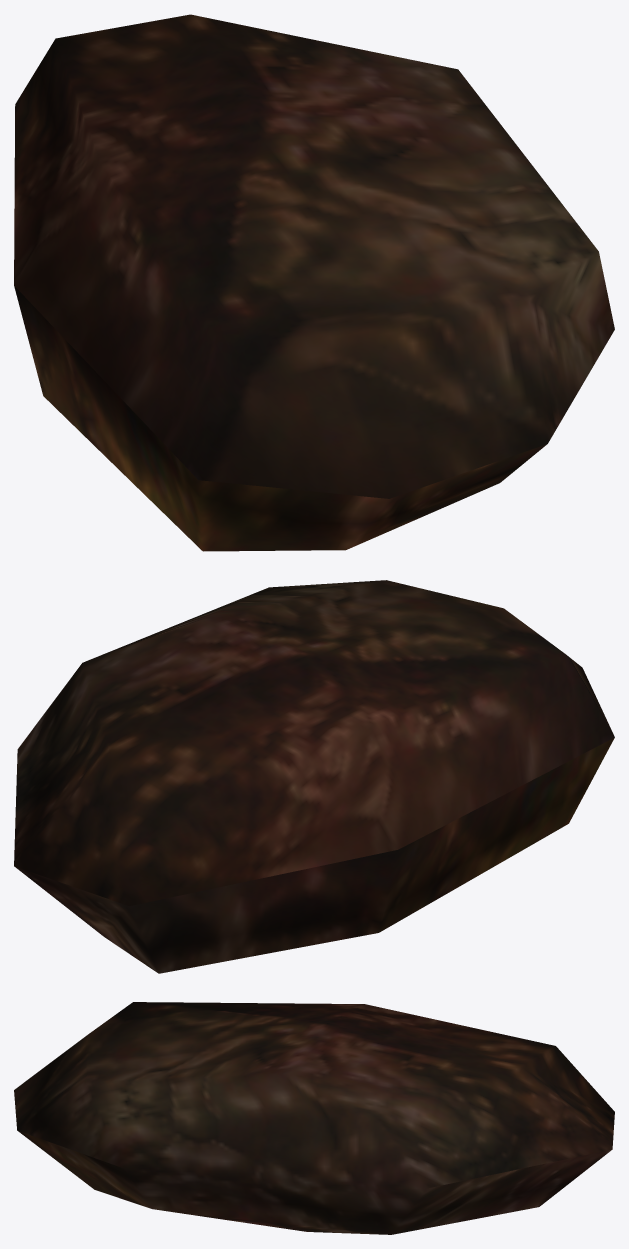
File: Giblet_Organ_02.DAE
The picture shows the model from 3 angles, top to bottom: view 1: azimuth 30°, elevation 25°; view 2: azimuth 150°, elevation 25°; view 3: azimuth 270°, elevation 25°; orthographic projection. The views are drawn at different scales.
Parts seen in each view (by area): view 1: Giblet_Organ02; view 2: Giblet_Organ02; view 3: Giblet_Organ02.
Part boxes in pixels (x1,y1,x2,y2): Giblet_Organ02: (14, 14, 614, 551); Giblet_Organ02: (14, 580, 614, 973); Giblet_Organ02: (14, 1002, 614, 1234).
Bounding box in the file's own units: 7.16 × 11.52 × 3.98.
